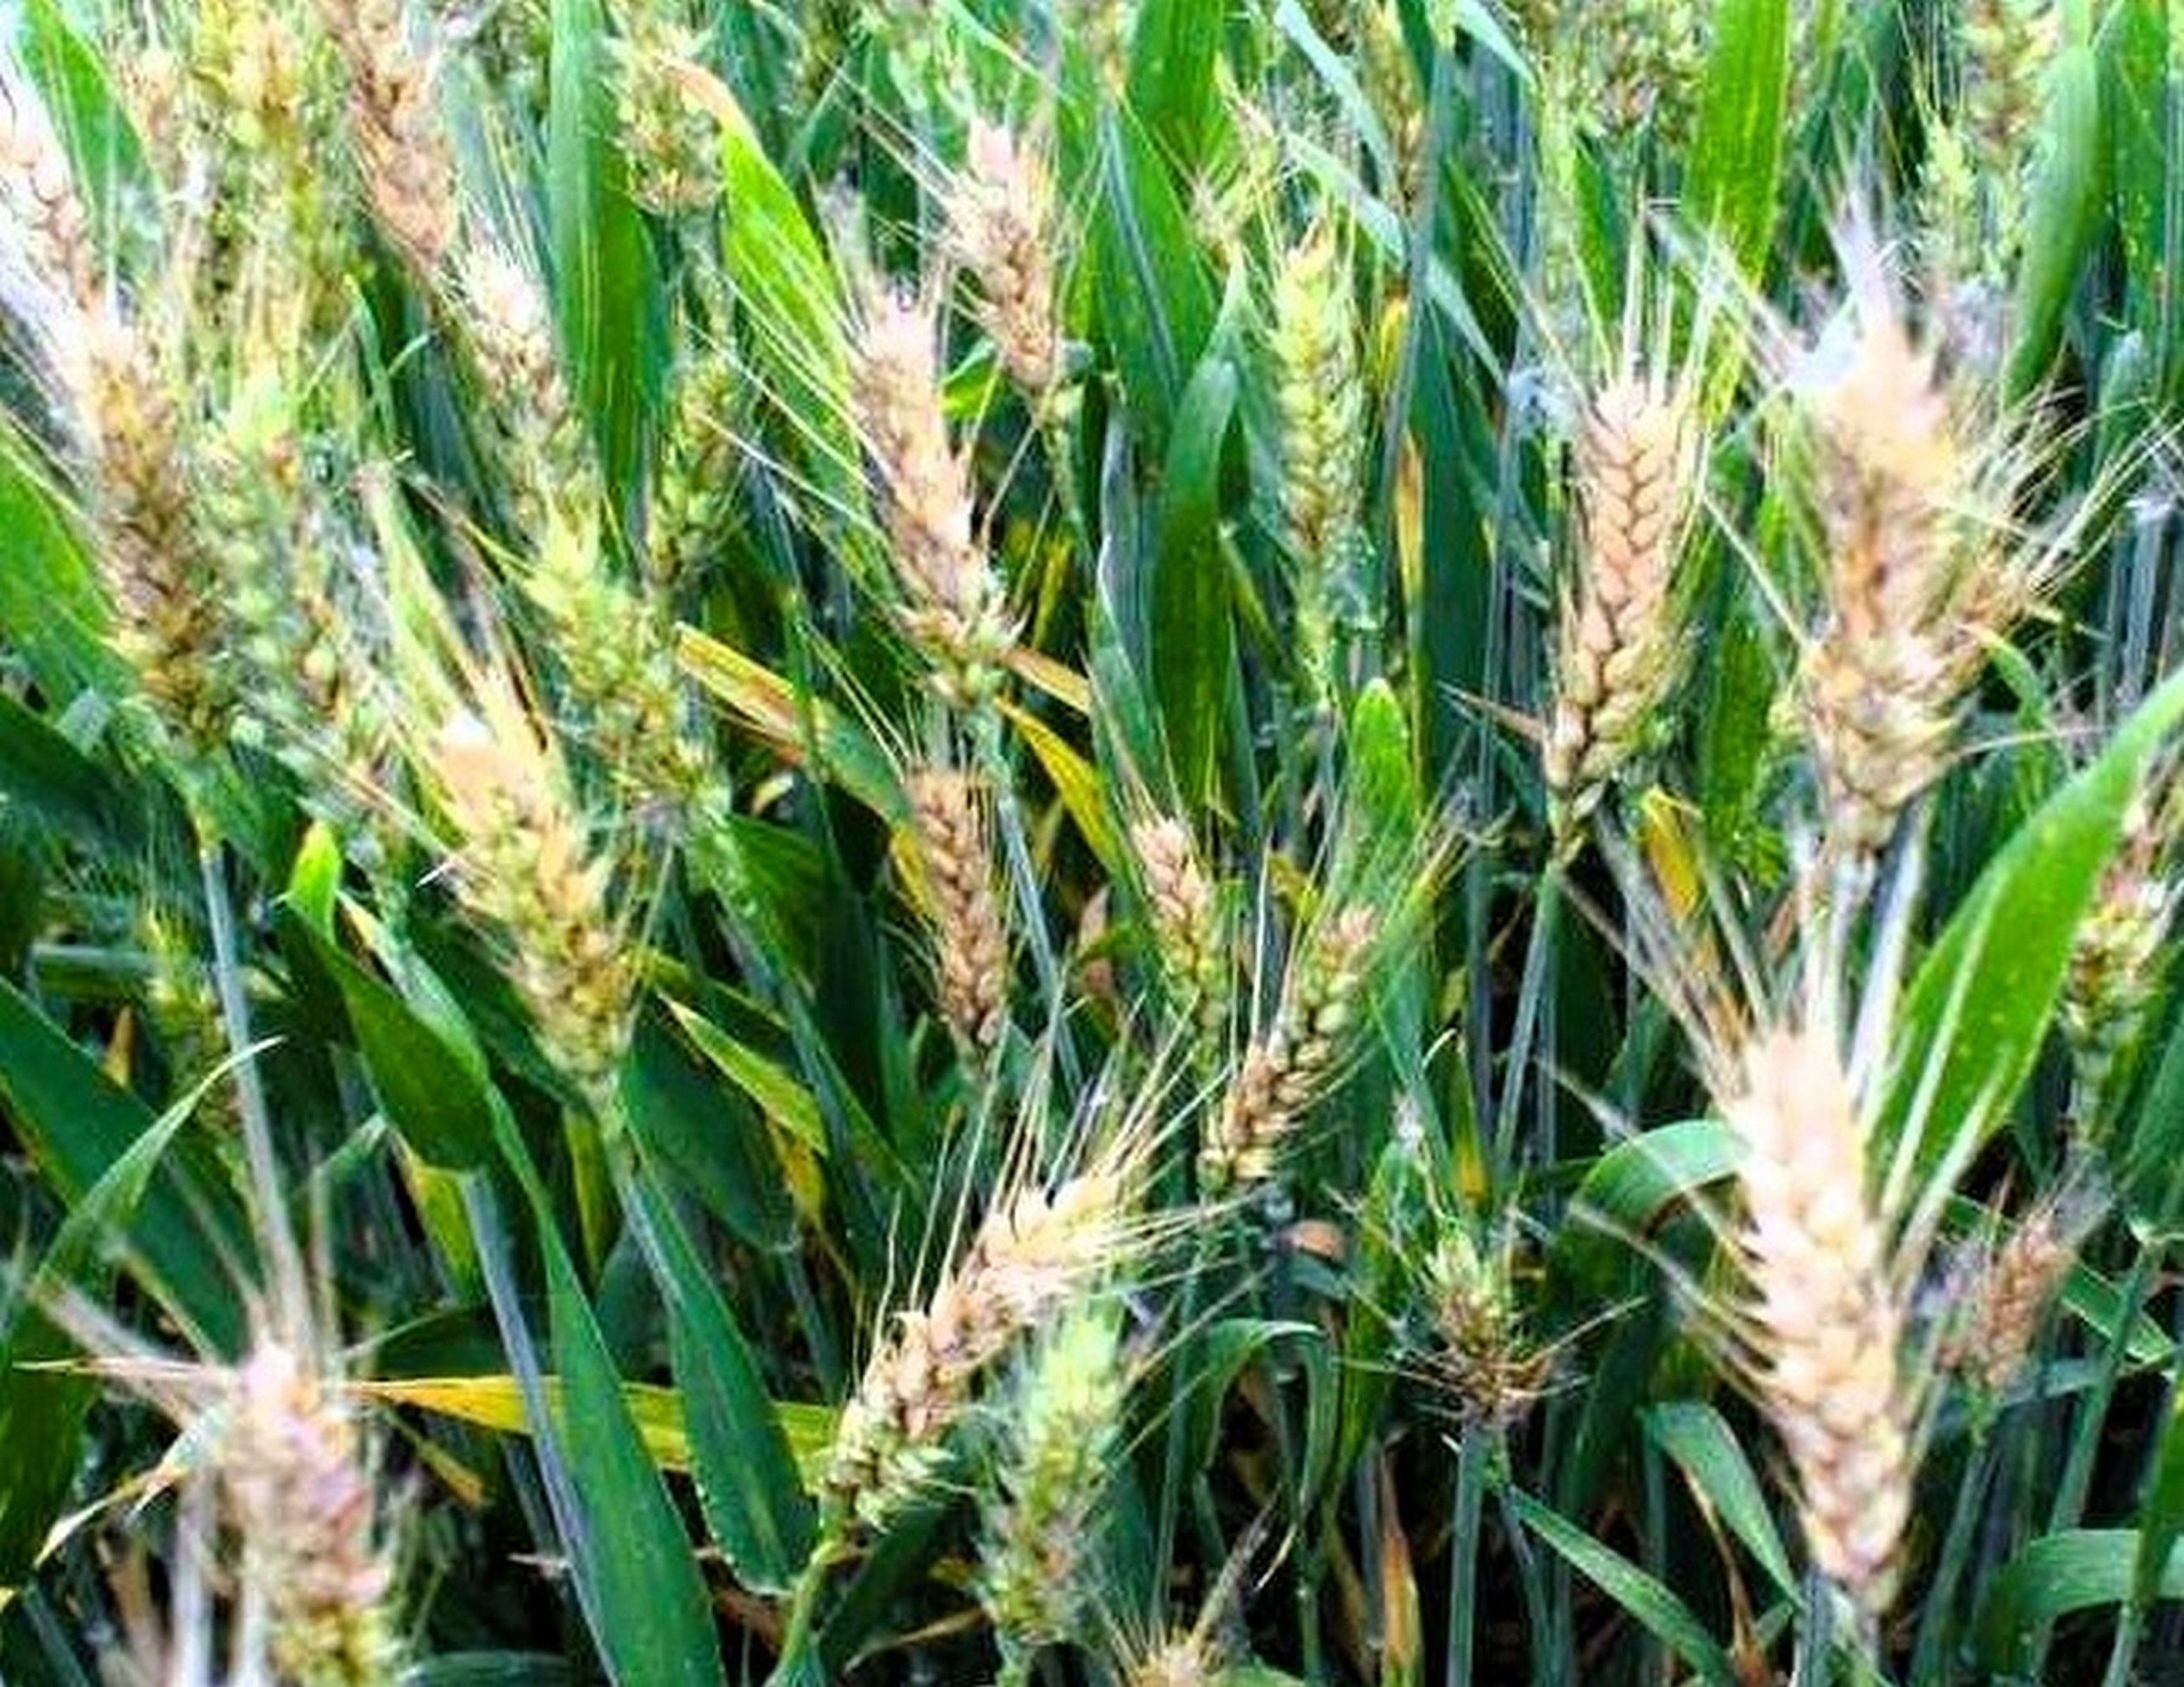Wheat scab: (790, 1166, 1100, 1531), (836, 280, 1042, 689), (1541, 381, 1713, 845), (903, 758, 1020, 1067), (1121, 799, 1235, 1084)
